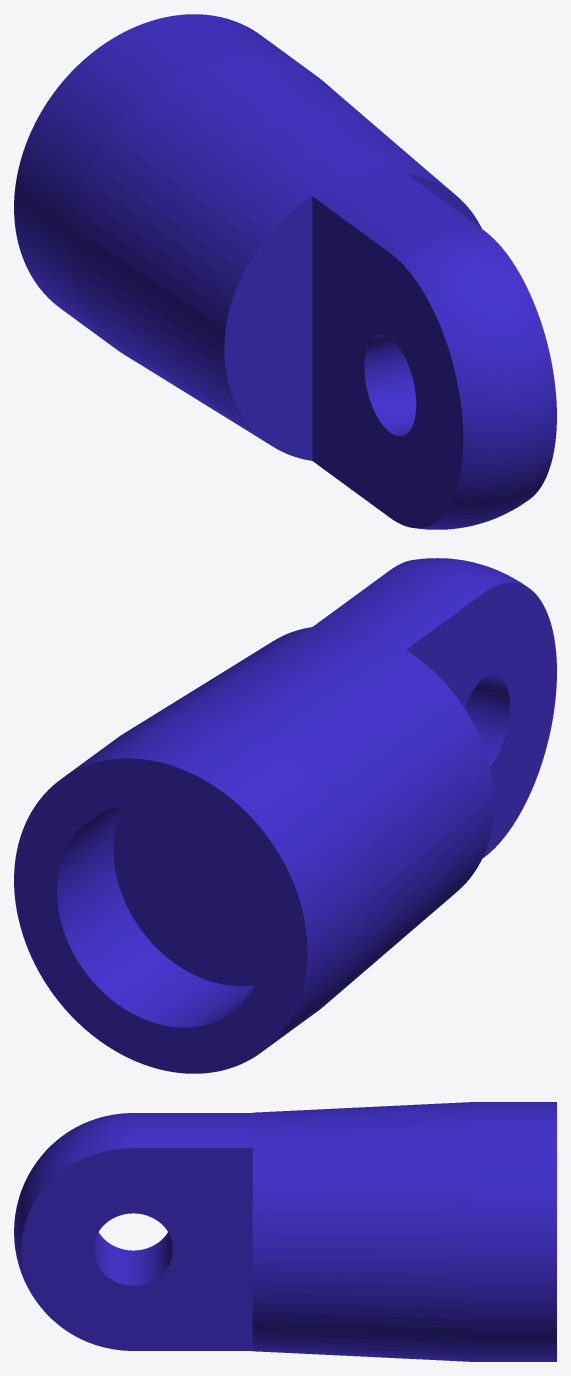
The picture shows the model from 3 angles, top to bottom: view 1: azimuth 30°, elevation 25°; view 2: azimuth 150°, elevation 25°; view 3: azimuth 270°, elevation 25°; orthographic projection. The views are drawn at different scales.
Parts seen in each view (by area): view 1: node; view 2: node; view 3: node.
Boxes of the visible parts, left/top/right/bottom form: node: left=14, top=14, right=556, bottom=529; node: left=14, top=558, right=556, bottom=1073; node: left=14, top=1102, right=556, bottom=1361.
Bounding box in the file's own units: 0.0895 × 0.0895 × 0.1871.
